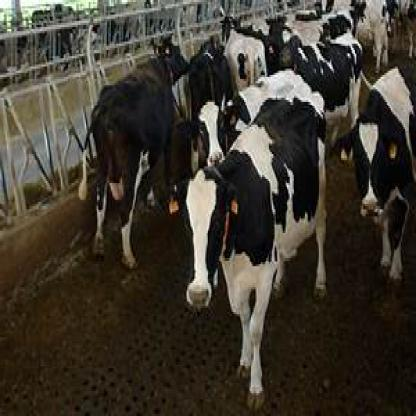cow: (184, 102, 330, 410), (89, 34, 187, 268), (195, 77, 318, 162), (276, 34, 366, 144)
